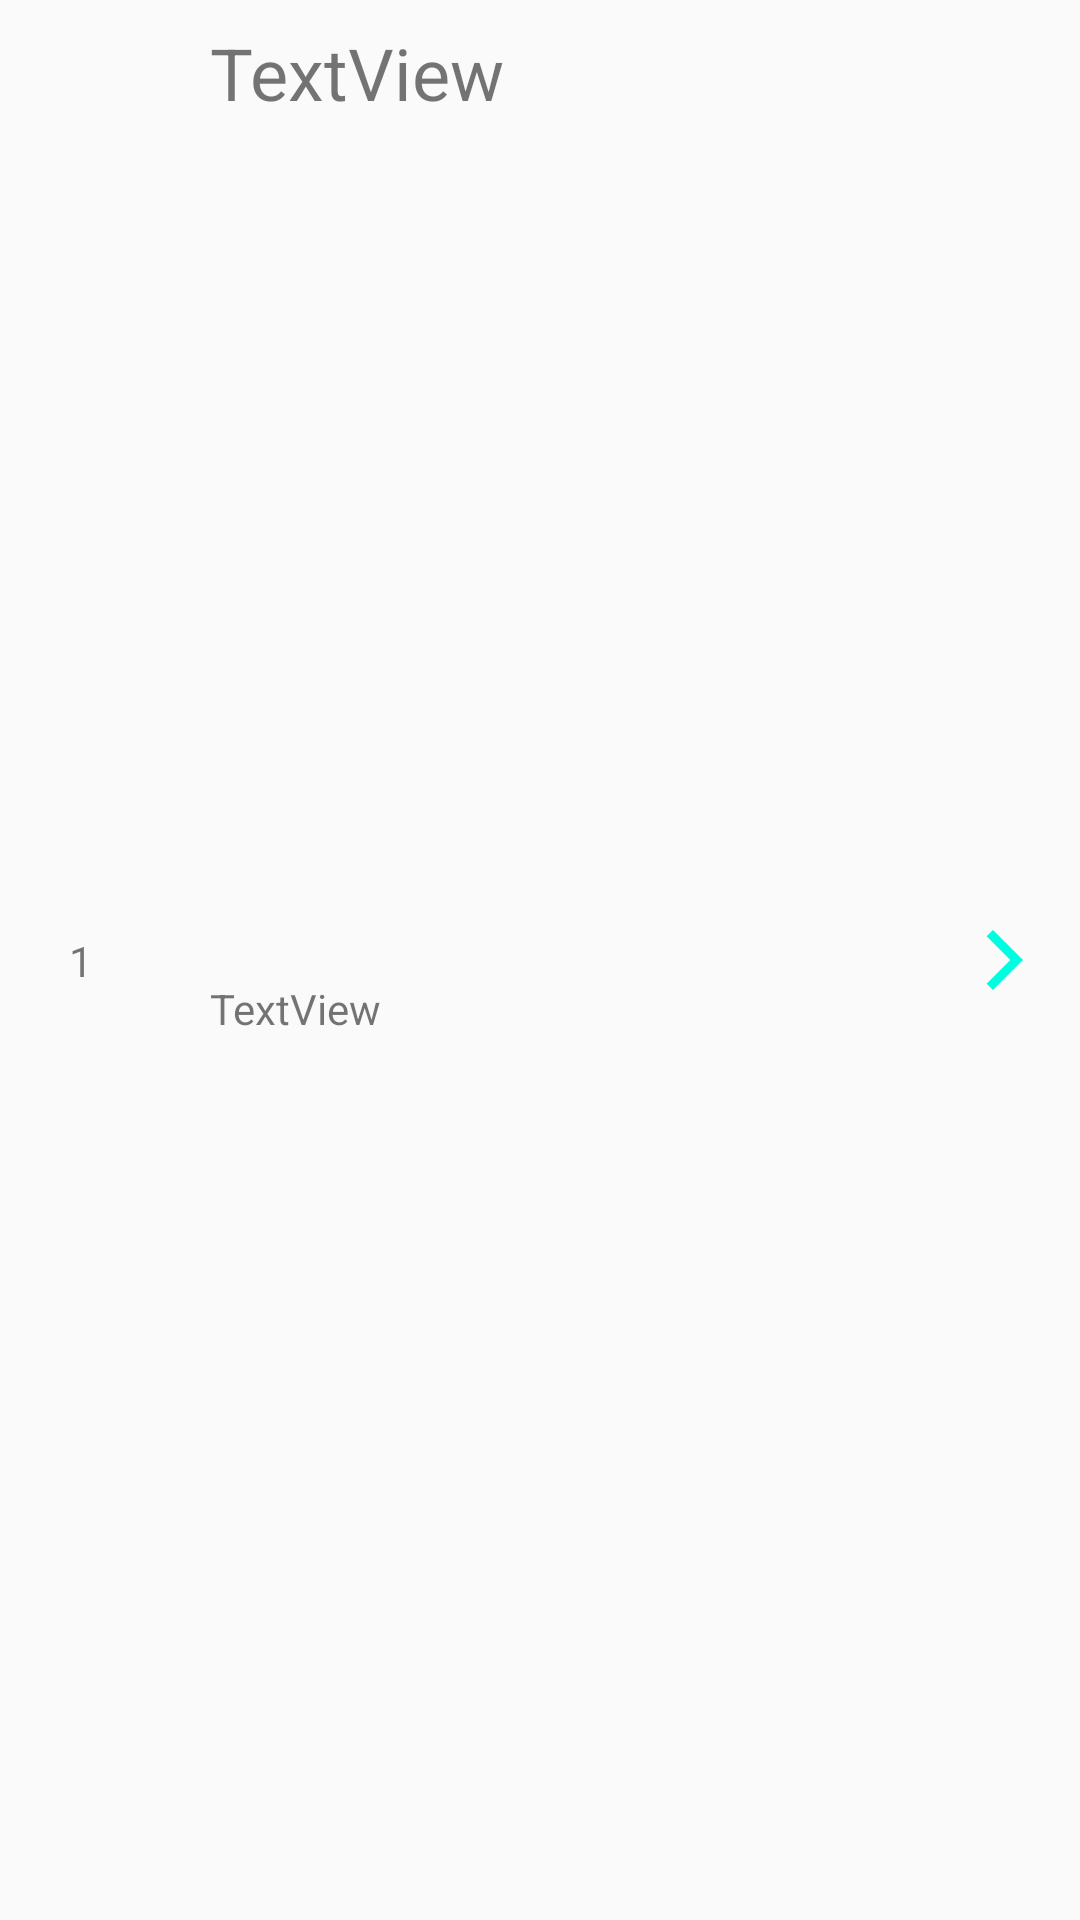

Named icons in this screenshot (1080×1920) and their bounding boxes, (x1, y1, x2, y2):
arrow forward: (986, 930, 1023, 990)
